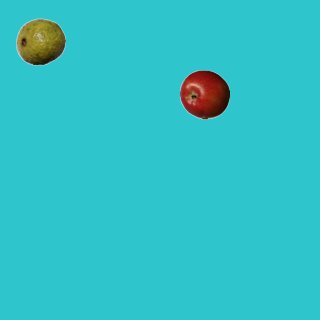Apple Braeburn: (179, 69, 229, 119)
Guava: (15, 16, 65, 66)
